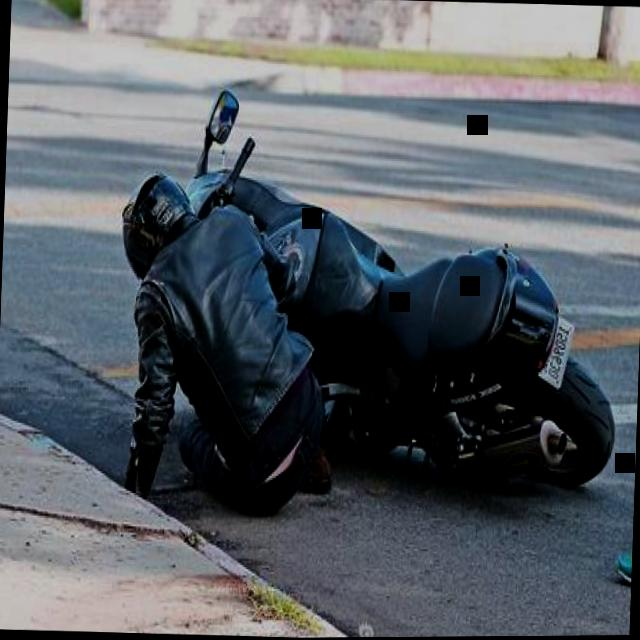Fall-Detected: (104, 150, 350, 531)
